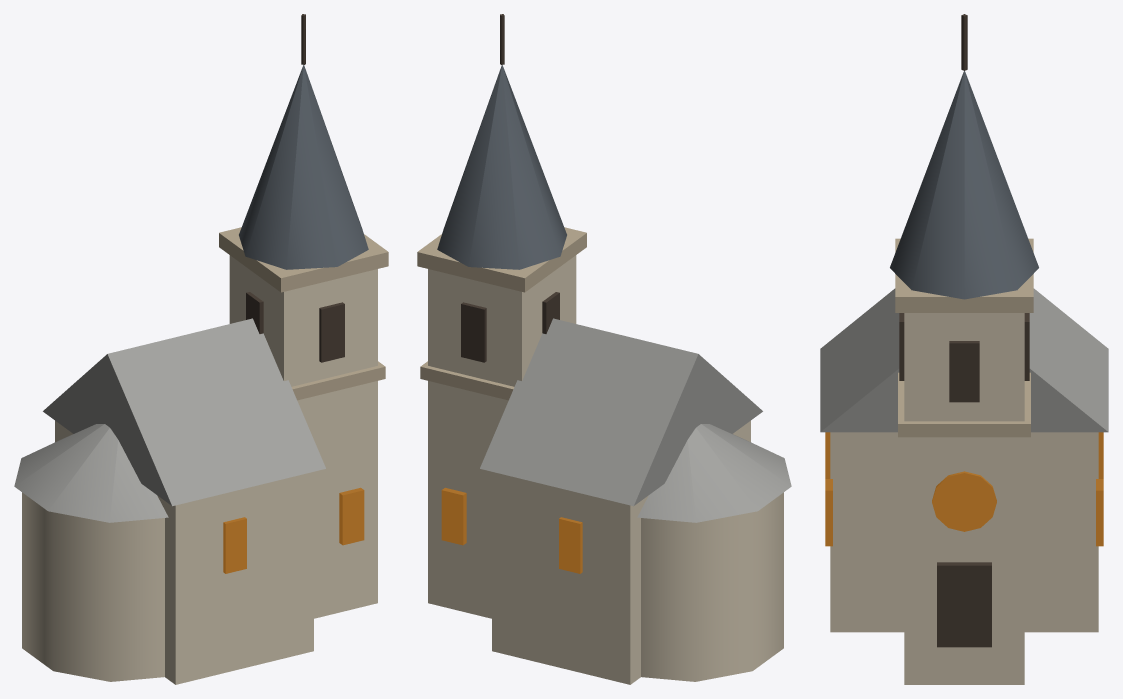
Rendered from eglise-2.glb.
The picture shows the model from 3 angles, left to right: view 1: azimuth 30°, elevation 25°; view 2: azimuth 150°, elevation 25°; view 3: azimuth 270°, elevation 25°; orthographic projection. The views are drawn at different scales.
Visible parts, largest first — view 1: Église; view 2: Église; view 3: Église.
Part boxes in pixels (x1=…): Église: x1=14, y1=14, x2=388, y2=684; Église: x1=417, y1=14, x2=791, y2=684; Église: x1=820, y1=14, x2=1108, y2=684.
Bounding box in the file's own units: 16.95 × 28.38 × 11.5.
